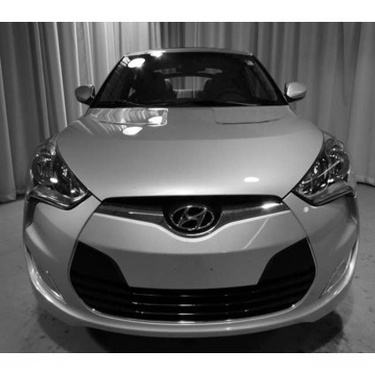car: (14, 40, 364, 338)
